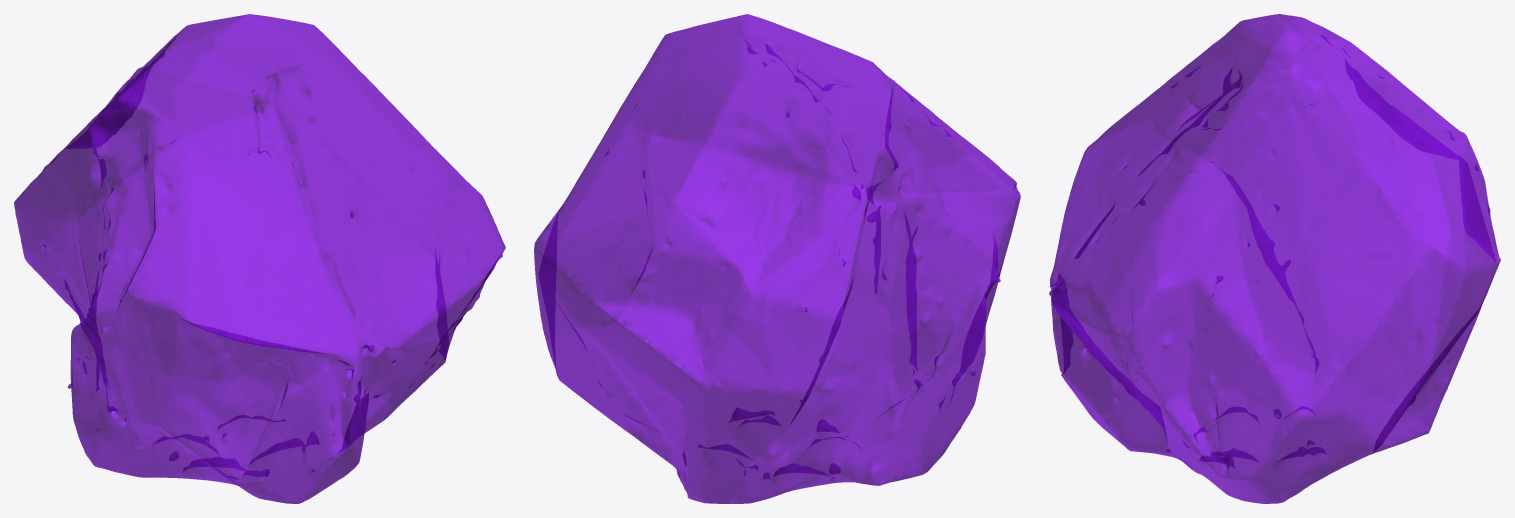
Rendered from piedra.fbx.
3 renders of one model, left to right at view 1: azimuth 30°, elevation 25°; view 2: azimuth 150°, elevation 25°; view 3: azimuth 270°, elevation 25°, orthographic. The views are drawn at different scales.
Visible parts, largest first — view 1: tripo_node_128d39d5; view 2: tripo_node_128d39d5; view 3: tripo_node_128d39d5.
Part boxes in pixels (box(x1,y1,x2,y2)): tripo_node_128d39d5: box(14, 14, 505, 503); tripo_node_128d39d5: box(534, 14, 1020, 503); tripo_node_128d39d5: box(1049, 14, 1500, 503).
Bounding box in the file's own units: 95.08 × 100 × 92.69.
